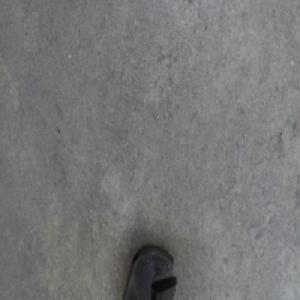AdjustableWrench: (121, 245, 177, 298)
